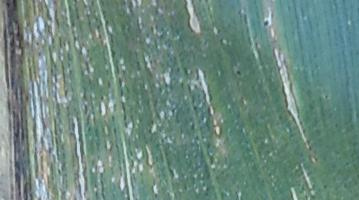tarspot: (16, 38, 25, 56), (14, 23, 22, 39), (189, 120, 196, 133), (106, 79, 113, 91), (242, 13, 248, 27), (83, 104, 88, 118), (262, 19, 270, 27), (234, 69, 242, 77), (133, 1, 140, 10), (175, 65, 181, 75), (321, 183, 328, 191), (191, 104, 198, 112), (149, 24, 154, 35), (34, 40, 41, 47), (36, 50, 43, 57), (11, 1, 17, 9), (323, 93, 329, 101), (153, 192, 159, 200), (24, 94, 29, 103), (5, 2, 11, 8), (99, 94, 104, 101), (71, 1, 79, 3)
